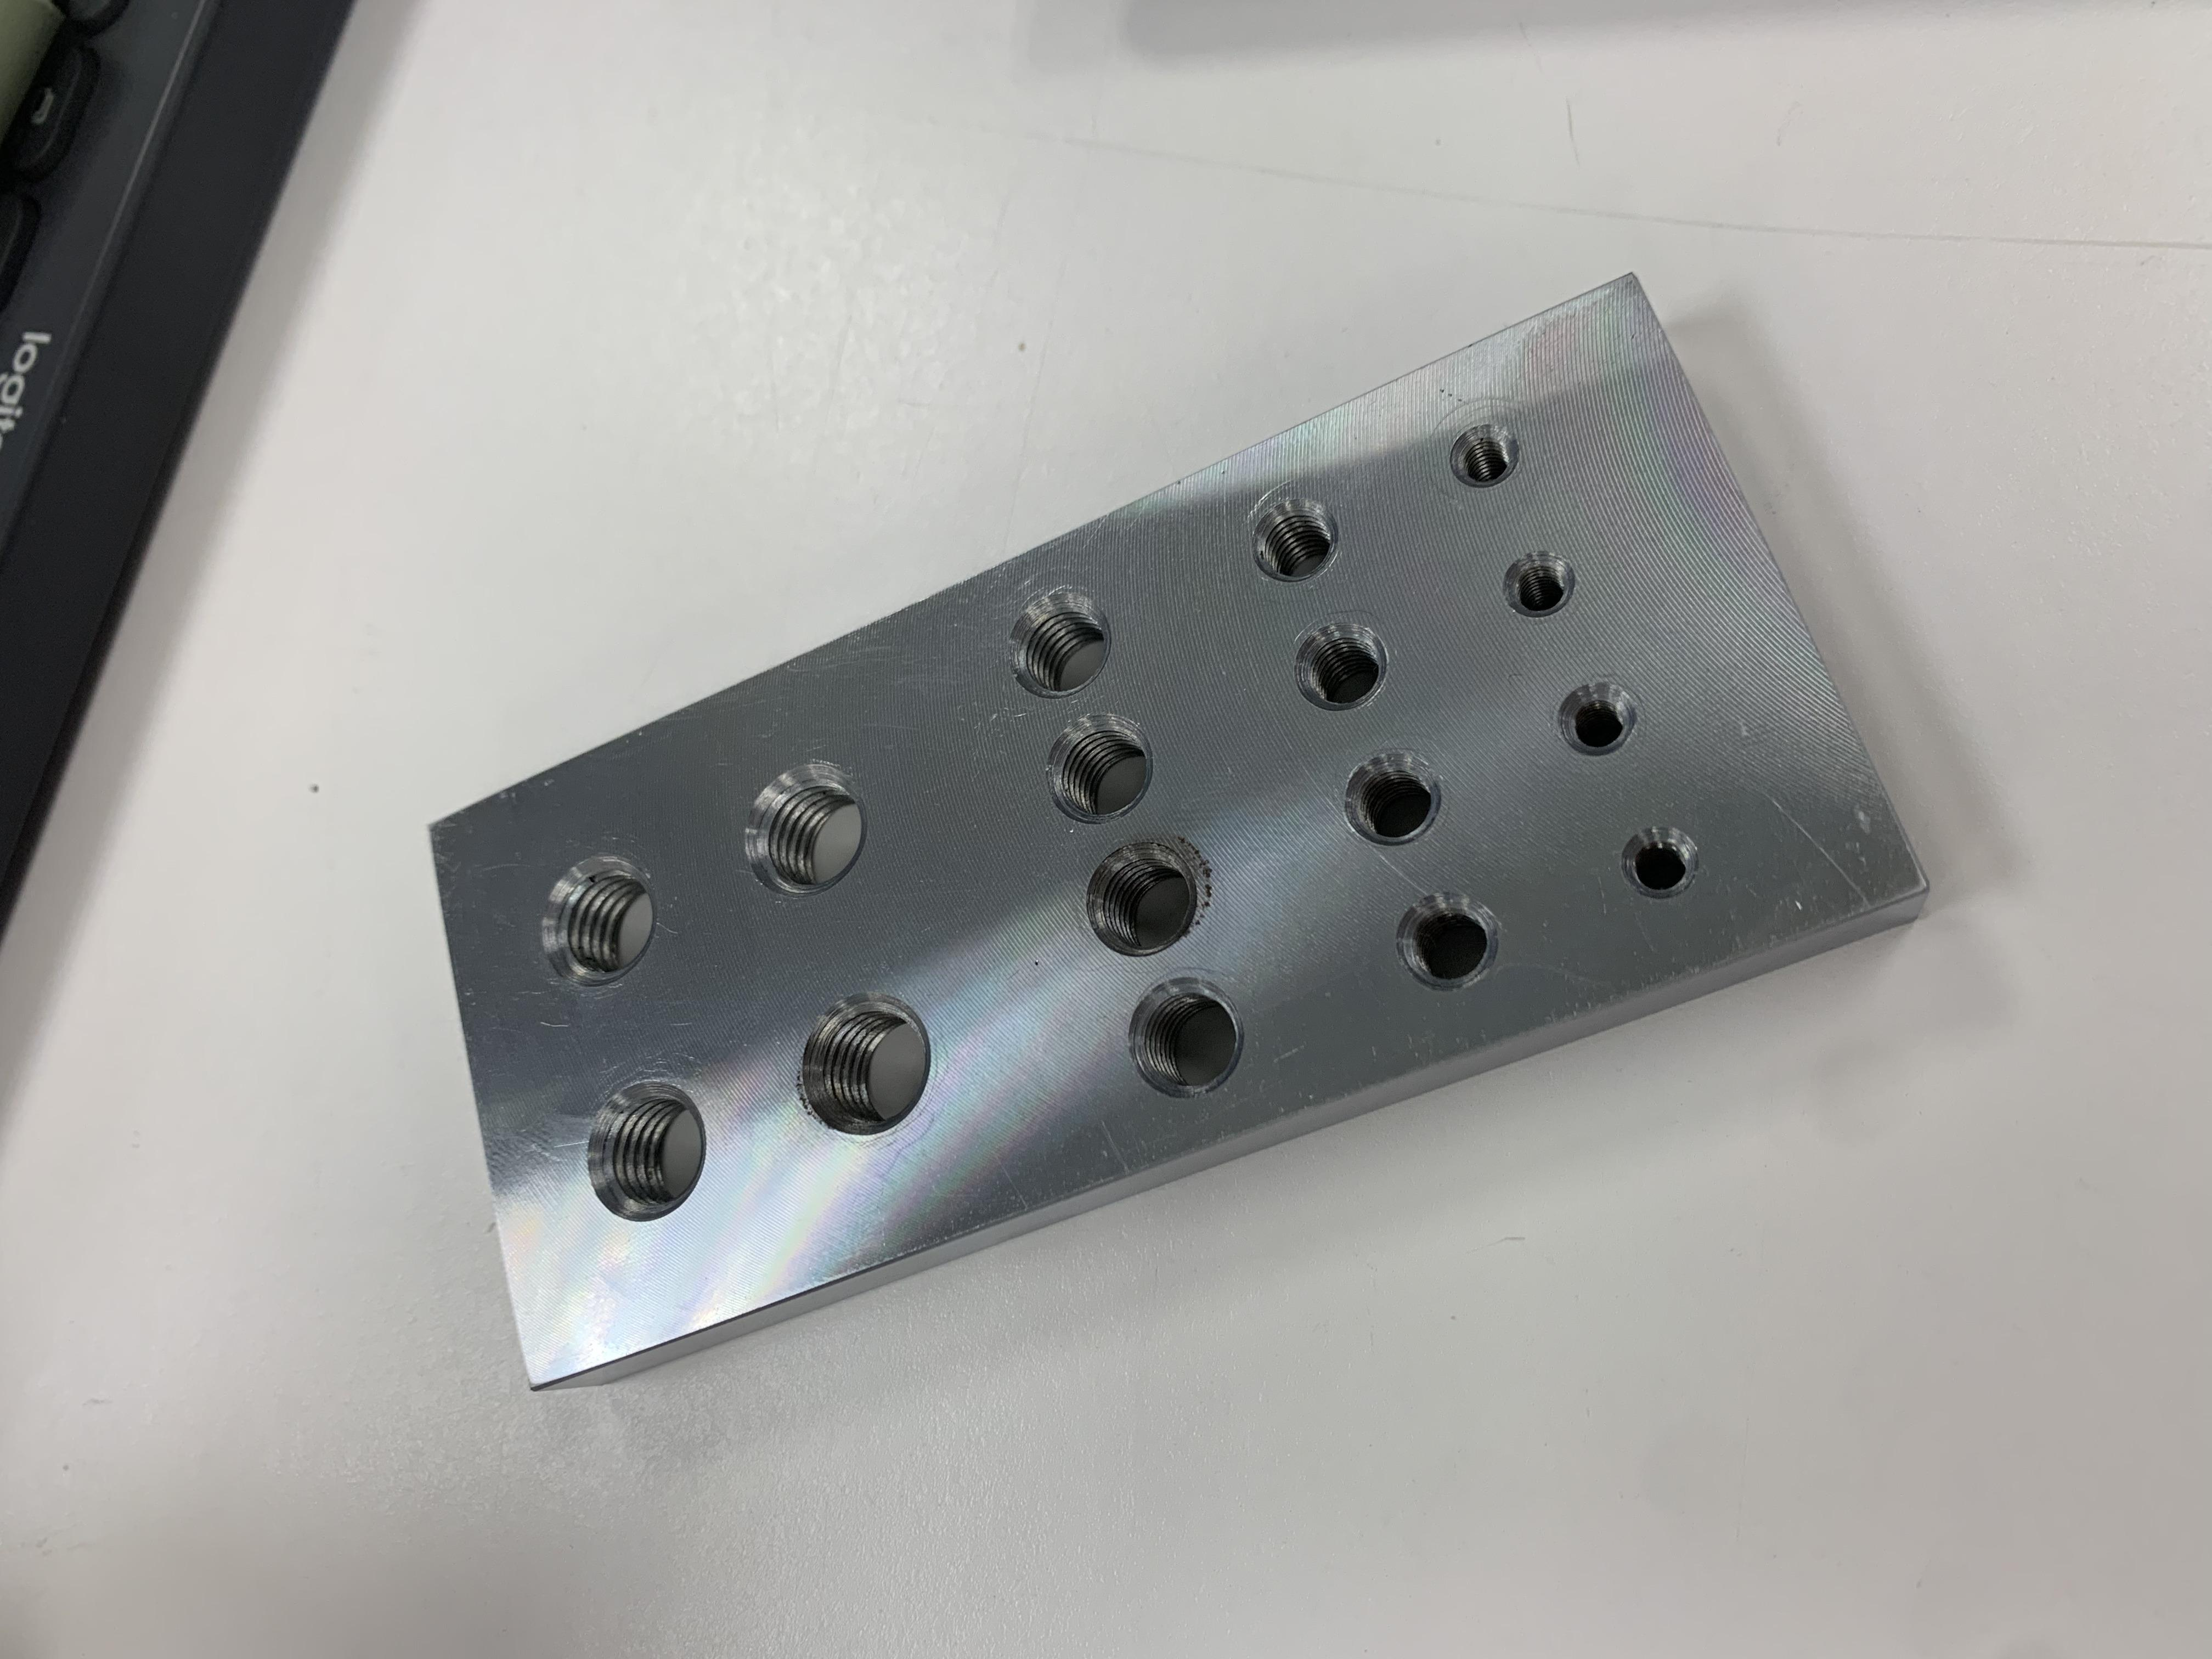hole: (509, 816, 690, 1000), (801, 985, 975, 1155), (570, 1061, 730, 1237), (723, 746, 895, 906), (1097, 972, 1278, 1115), (1217, 469, 1379, 605), (1360, 884, 1536, 1006), (1064, 835, 1233, 957), (1325, 721, 1463, 861), (991, 584, 1130, 702), (1278, 605, 1409, 727), (1040, 706, 1162, 823), (1599, 809, 1724, 913), (1540, 666, 1655, 767), (1437, 404, 1534, 500), (1493, 544, 1594, 636)
